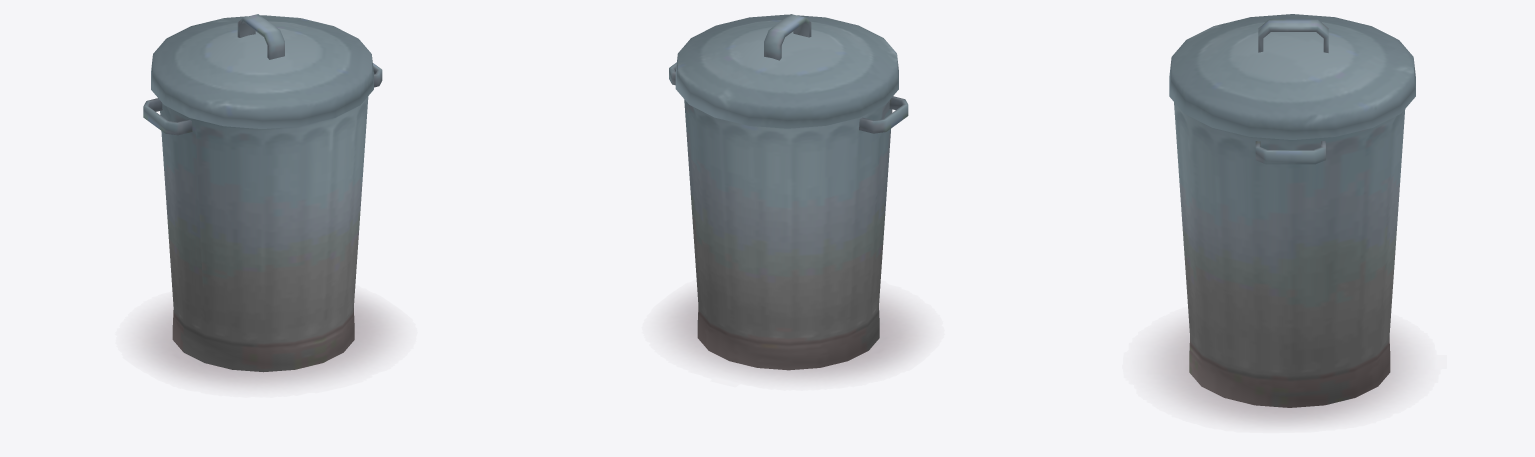
The model's file is ObstacleBin.prefab.glb.
The picture shows the model from 3 angles, left to right: view 1: azimuth 30°, elevation 25°; view 2: azimuth 150°, elevation 25°; view 3: azimuth 270°, elevation 25°; orthographic projection. The views are drawn at different scales.
Visible parts, largest first — view 1: BinBase, BinTop, Shadow; view 2: BinBase, BinTop, Shadow; view 3: BinBase, BinTop, Shadow.
Part boxes in pixels (x1,y1,x2,y2): BinBase: (143,63,382,372); BinTop: (151,14,373,128); Shadow: (140,297,391,385); BinBase: (669,62,908,370); BinTop: (675,14,898,128); Shadow: (667,293,918,378); BinBase: (1174,102,1405,407); BinTop: (1169,14,1415,139); Shadow: (1155,323,1409,423).
Size of the model in its own units: 1.63 by 1.66 by 2.01.
2 materials, 2 textured.
